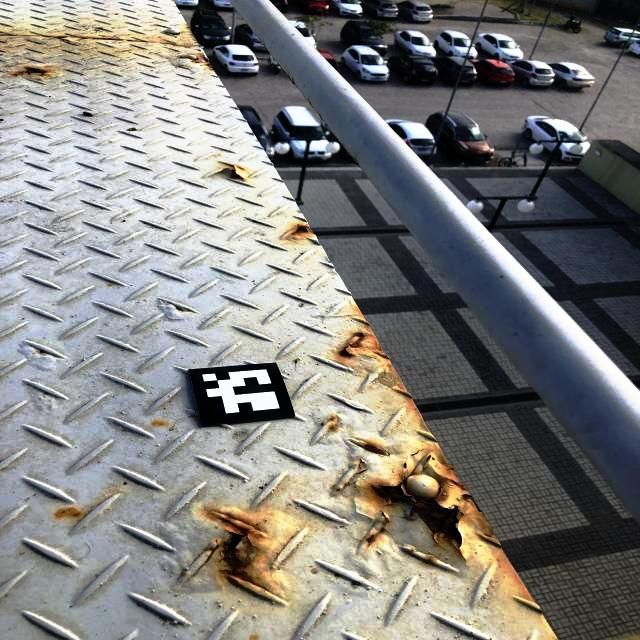Corrosion: (380, 486, 462, 548), (205, 510, 266, 588), (449, 480, 481, 513), (365, 510, 392, 543), (9, 63, 57, 80), (338, 332, 367, 358), (354, 439, 390, 456), (192, 53, 215, 72), (224, 163, 247, 179), (292, 223, 312, 235), (327, 425, 337, 430), (55, 36, 69, 39), (329, 416, 335, 421)
